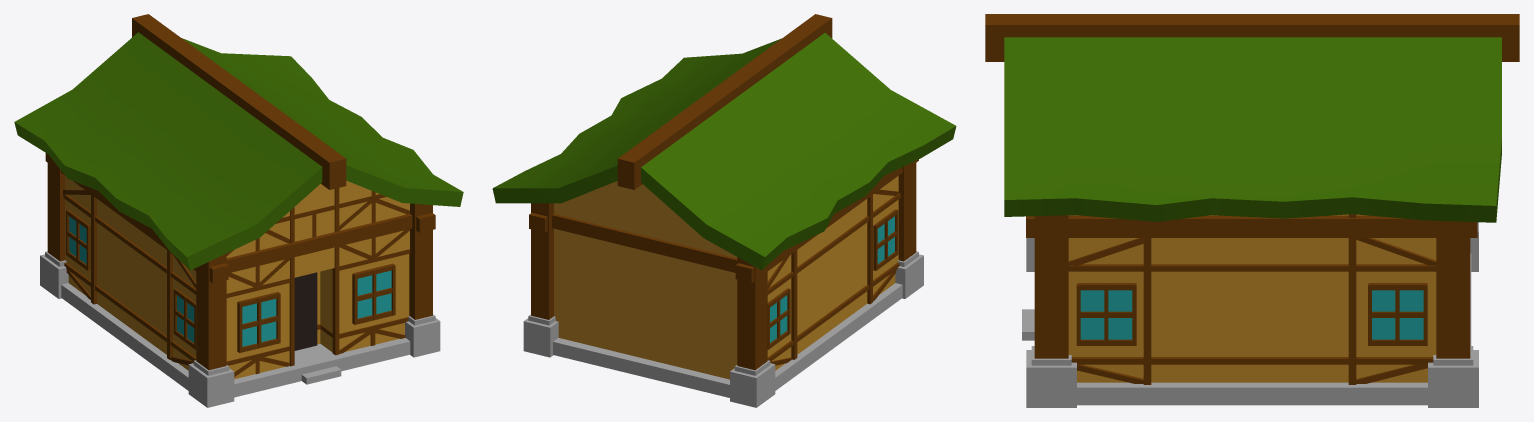
File: Village_Modular_Building_2.fbx
3 views of the same model, side by side, from view 1: azimuth 30°, elevation 25°; view 2: azimuth 150°, elevation 25°; view 3: azimuth 270°, elevation 25° (orthographic). The views are drawn at different scales.
Visible parts, largest first — view 1: polySurface351; view 2: polySurface351; view 3: polySurface351.
Boxes of the visible parts, x1=… form: polySurface351: x1=14, y1=14, x2=463, y2=407; polySurface351: x1=492, y1=14, x2=956, y2=407; polySurface351: x1=985, y1=14, x2=1519, y2=407.
Bounding box in the file's own units: 12.56 × 9.72 × 15.14.
